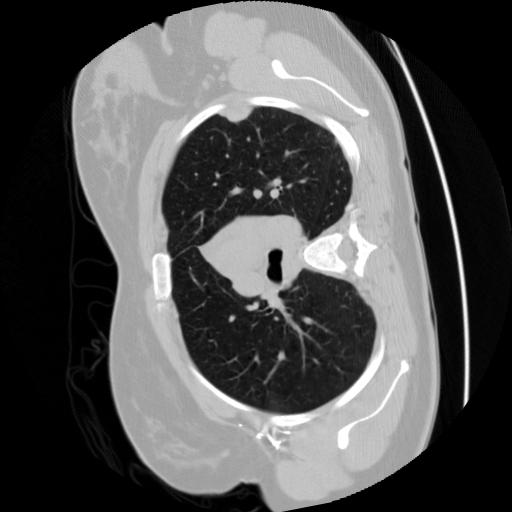nodule: (221, 99, 253, 131)
